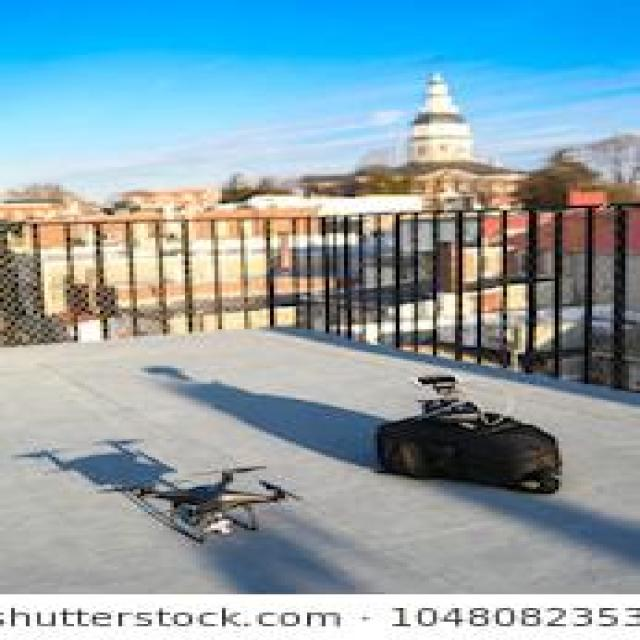drone: (105, 452, 313, 548)
